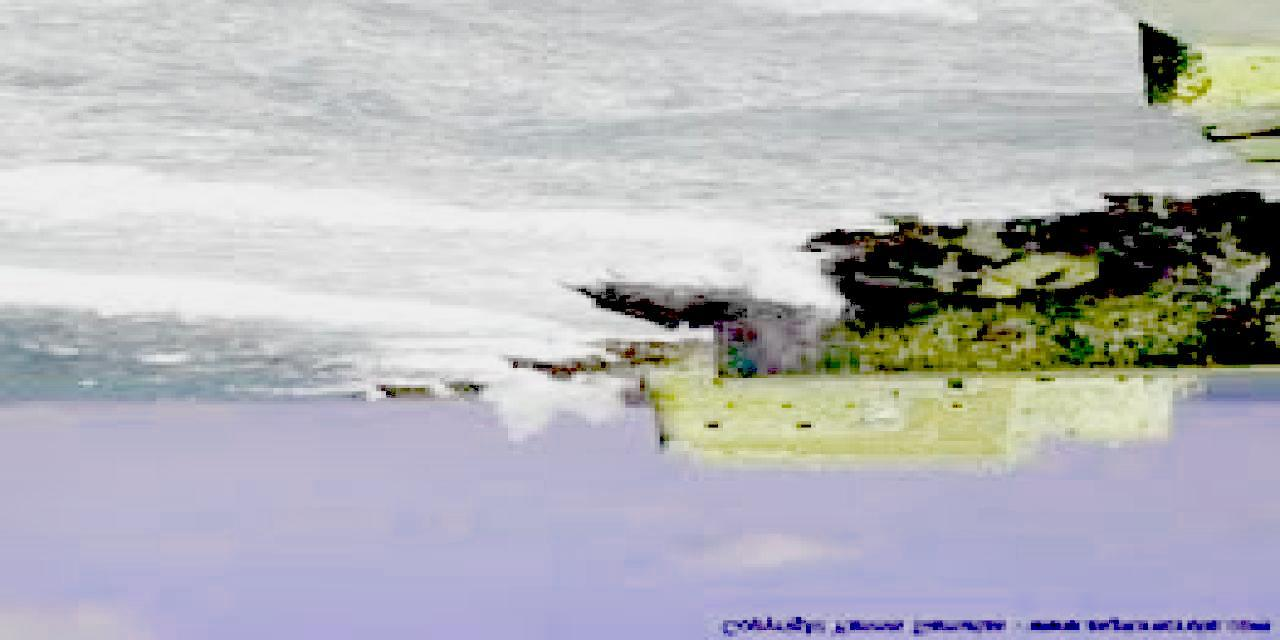Kules: (652, 358, 1186, 482)
